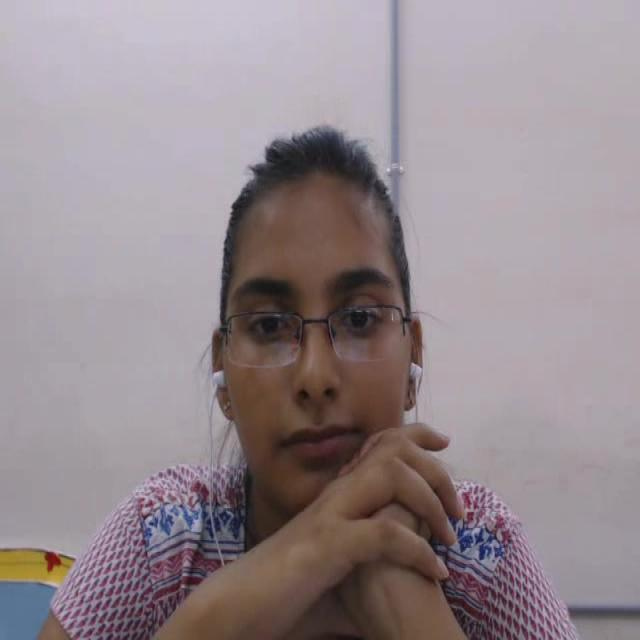Bored: (200, 92, 459, 574)
